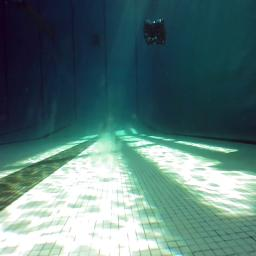Full: (91, 38, 102, 46)
front: (143, 19, 167, 47)
